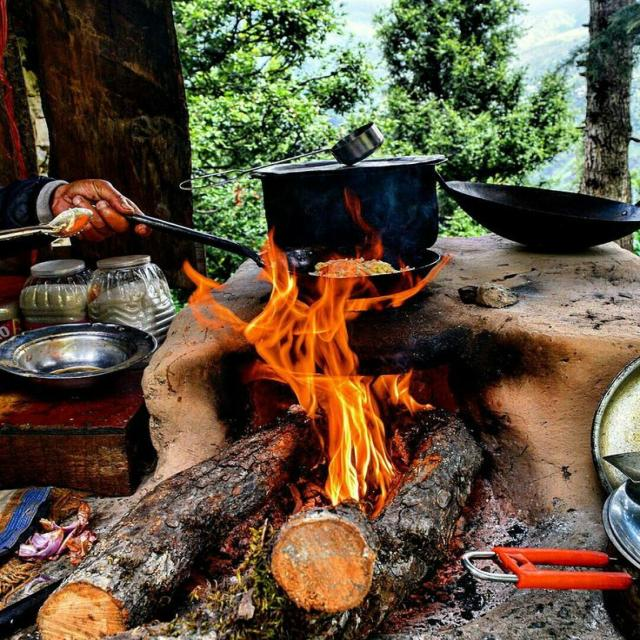fire: (245, 231, 395, 517), (184, 263, 244, 336), (343, 191, 383, 260), (397, 252, 448, 305), (399, 430, 442, 488), (397, 370, 435, 415)
